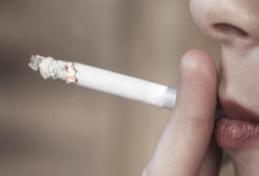smoke: (27, 53, 224, 119)
